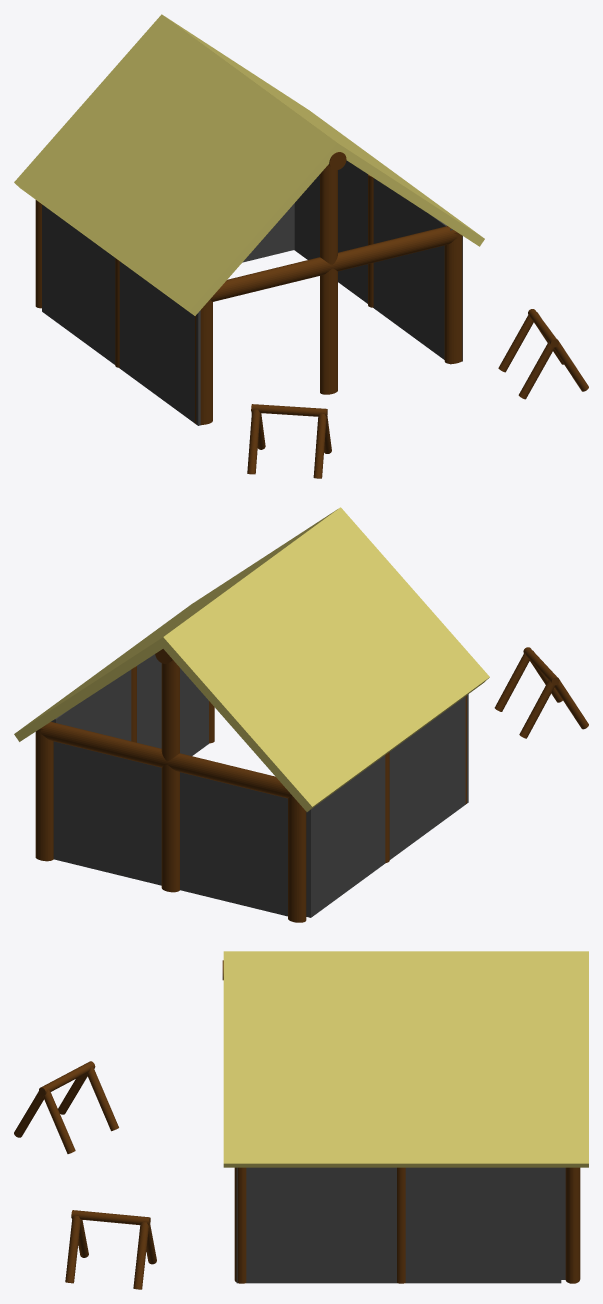
The model's file is HuntersCabin.fbx.
The picture shows the model from 3 angles, top to bottom: view 1: azimuth 30°, elevation 25°; view 2: azimuth 150°, elevation 25°; view 3: azimuth 270°, elevation 25°; orthographic projection. The views are drawn at different scales.
Parts seen in each view (by area): view 1: Roof, Walls, Struts, Rack; view 2: Roof, Walls, Struts, Rack; view 3: Roof, Walls, Rack, Struts.
Boxes of the visible parts, x1,y1,x2,y2 form: Roof: (14, 14, 484, 315); Walls: (42, 160, 462, 425); Struts: (35, 152, 462, 424); Rack: (247, 309, 588, 478); Roof: (14, 507, 489, 811); Walls: (51, 654, 468, 917); Struts: (35, 649, 466, 922); Rack: (494, 647, 588, 738); Roof: (223, 951, 588, 1167); Walls: (236, 1167, 565, 1283); Rack: (14, 1061, 156, 1289); Struts: (222, 960, 580, 1283).
Size of the model in its own units: 171 by 117 by 230.
